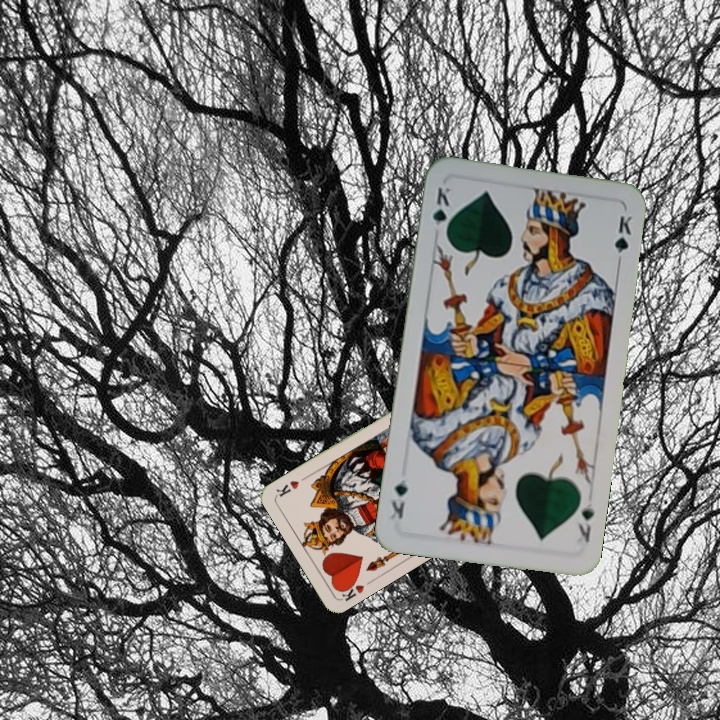GK: (427, 183, 453, 240), (574, 499, 597, 545)
HK: (334, 576, 367, 604)
